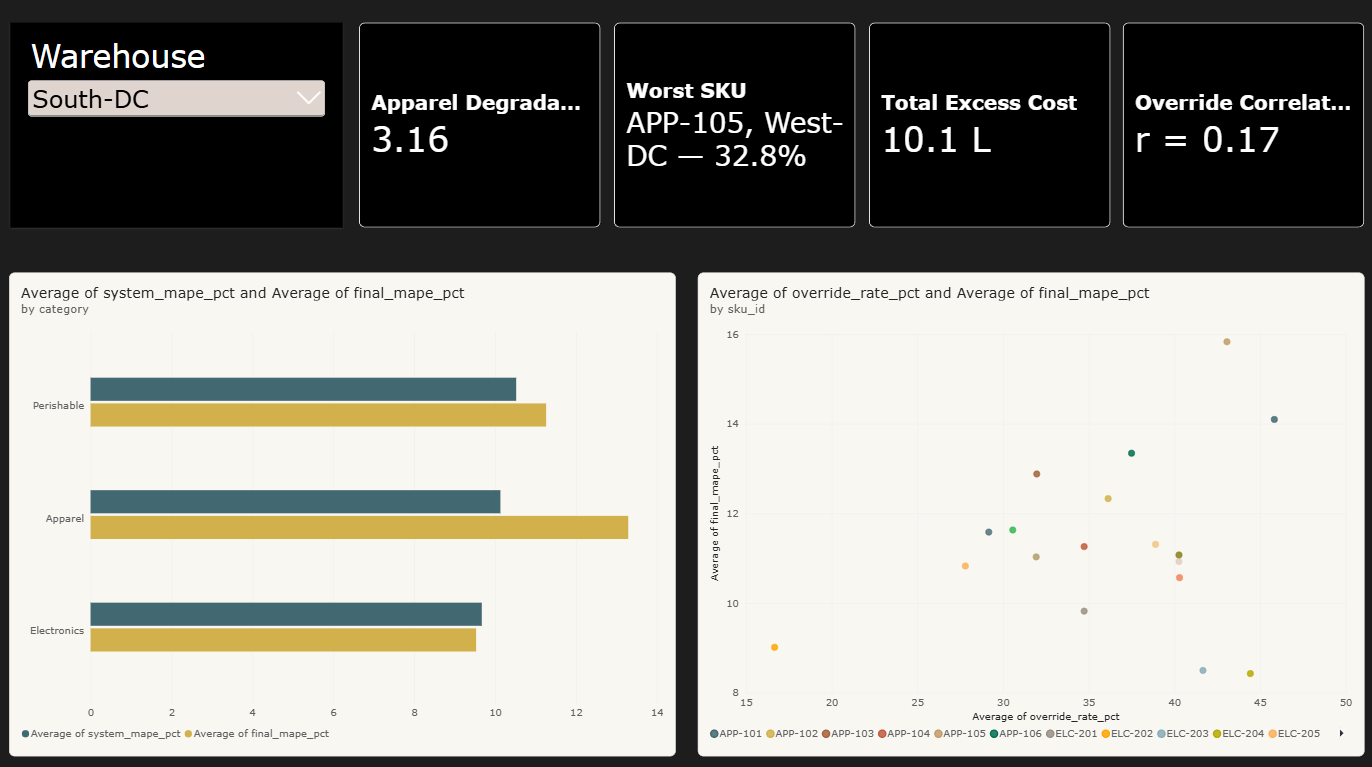

The page's visual inventory and layout, read from the dashboard file:
{"tool":"powerbi","page":{"name":"Page 1","canvas":[1920,1080],"ordinal":0},"visuals":[{"type":"clusteredBarChart","fields":{"Category":["1st query MAPE.category"],"Y":["Avg(1st query MAPE.system_mape_pct)","Avg(1st query MAPE.final_mape_pct)"]},"box":[14.4,380.8,930.4,675.1],"z":0},{"type":"scatterChart","fields":{"Series":["4th query override rate.sku_id"],"X":["Avg(4th query override rate.override_rate_pct)"],"Y":["Avg(4th query override rate.final_mape_pct)"]},"box":[975.6,380.8,930.4,675.1],"z":1000},{"type":"cardVisual","fields":{"Data":["1st query MAPE.Apparel Degradation"]},"box":[502.2,32.1,337.6,286.1],"z":2000},{"type":"cardVisual","fields":{"Data":["5th query Cost incurred.Total Excess Cost"]},"box":[1214.4,32.1,337.6,286.1],"z":3000},{"type":"cardVisual","fields":{"Data":["Analysis.Worst SKU"]},"box":[858.3,32.1,337.6,286.1],"z":4000},{"type":"cardVisual","fields":{"Data":["Analysis.Override Correlation"]},"box":[1568.4,32.1,337.6,286.1],"z":5000},{"type":"slicer","fields":{"Values":["5th query Cost incurred.warehouse"]},"box":[15,32.1,464,286.5],"z":6000}]}

Visuals, with their boxes in screenshot pixels (x1, y1, x2, y2), scaled from the page's 1920x1080 canvas onto the 1372x767 screenshot:
clusteredBarChart - 1st query MAPE.category x Avg(1st query MAPE.system_mape_pct): region(10, 270, 675, 750)
scatterChart - 4th query override rate.sku_id x Avg(4th query override rate.override_rate_pct): region(697, 270, 1362, 750)
cardVisual - 1st query MAPE.Apparel Degradation: region(359, 23, 600, 226)
cardVisual - 5th query Cost incurred.Total Excess Cost: region(868, 23, 1109, 226)
cardVisual - Analysis.Worst SKU: region(613, 23, 855, 226)
cardVisual - Analysis.Override Correlation: region(1121, 23, 1362, 226)
slicer - 5th query Cost incurred.warehouse: region(11, 23, 342, 226)
